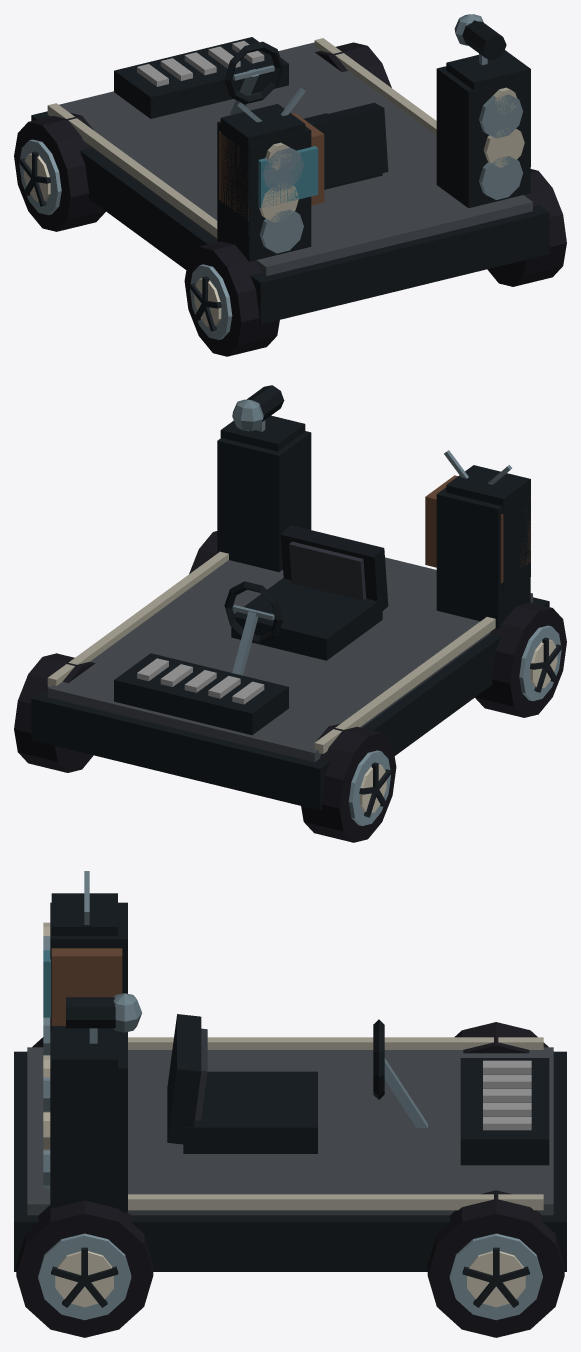
The model's file is kart.glb.
3 renders of one model, top to bottom at view 1: azimuth 30°, elevation 25°; view 2: azimuth 150°, elevation 25°; view 3: azimuth 270°, elevation 25°, orthographic. The views are drawn at different scales.
Visible parts, largest first — view 1: identity-stage-stage-platform-and-pa-towers, identity-stage-motif-speakers, wheel-rear-left, wheel-front-left, identity-stage-driver-cockpit, identity-stage-motif-television, wheel-rear-right, identity-stage-motif-microphone, wheel-front-right; view 2: identity-stage-stage-platform-and-pa-towers, identity-stage-driver-cockpit, wheel-front-left, wheel-rear-left, identity-stage-motif-speakers, wheel-front-right, identity-stage-motif-television, identity-stage-motif-microphone; view 3: identity-stage-stage-platform-and-pa-towers, identity-stage-driver-cockpit, wheel-front-right, wheel-rear-right, identity-stage-motif-speakers, identity-stage-motif-television, identity-stage-motif-microphone, wheel-front-left.
Boxes of the visible parts, <box> form: identity-stage-stage-platform-and-pa-towers: <box>31,37,549,324</box>; identity-stage-motif-speakers: <box>220,50,530,235</box>; wheel-rear-left: <box>184,241,279,356</box>; wheel-front-left: <box>14,112,105,231</box>; identity-stage-driver-cockpit: <box>224,41,388,189</box>; identity-stage-motif-television: <box>219,87,324,220</box>; wheel-rear-right: <box>487,169,566,286</box>; identity-stage-motif-microphone: <box>454,14,506,65</box>; wheel-front-right: <box>315,42,391,87</box>; identity-stage-stage-platform-and-pa-towers: <box>31,431,549,810</box>; identity-stage-driver-cockpit: <box>224,525,388,675</box>; wheel-front-left: <box>301,723,396,842</box>; wheel-rear-left: <box>475,602,566,717</box>; identity-stage-motif-speakers: <box>220,415,530,596</box>; wheel-front-right: <box>14,653,95,772</box>; identity-stage-motif-television: <box>425,450,530,583</box>; identity-stage-motif-microphone: <box>232,385,284,431</box>; identity-stage-stage-platform-and-pa-towers: <box>14,902,566,1271</box>; identity-stage-driver-cockpit: <box>167,1014,427,1153</box>; wheel-front-right: <box>427,1190,564,1337</box>; wheel-rear-right: <box>16,1200,153,1337</box>; identity-stage-motif-speakers: <box>43,893,117,1177</box>; identity-stage-motif-television: <box>43,871,122,1031</box>; identity-stage-motif-microphone: <box>66,993,141,1043</box>; wheel-front-left: <box>454,1022,548,1053</box>.
Bounding box in the file's own units: 2.16 × 1.57 × 2.5.
